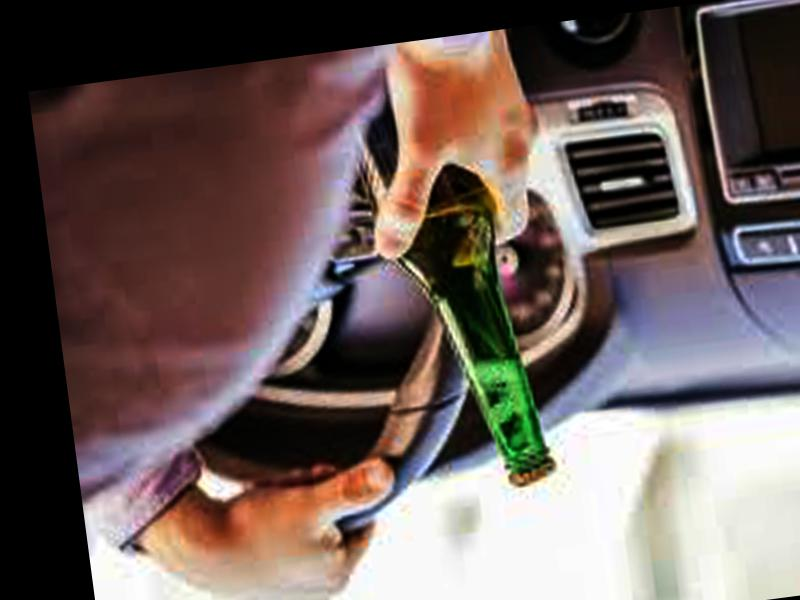Beer: (350, 74, 559, 504)
